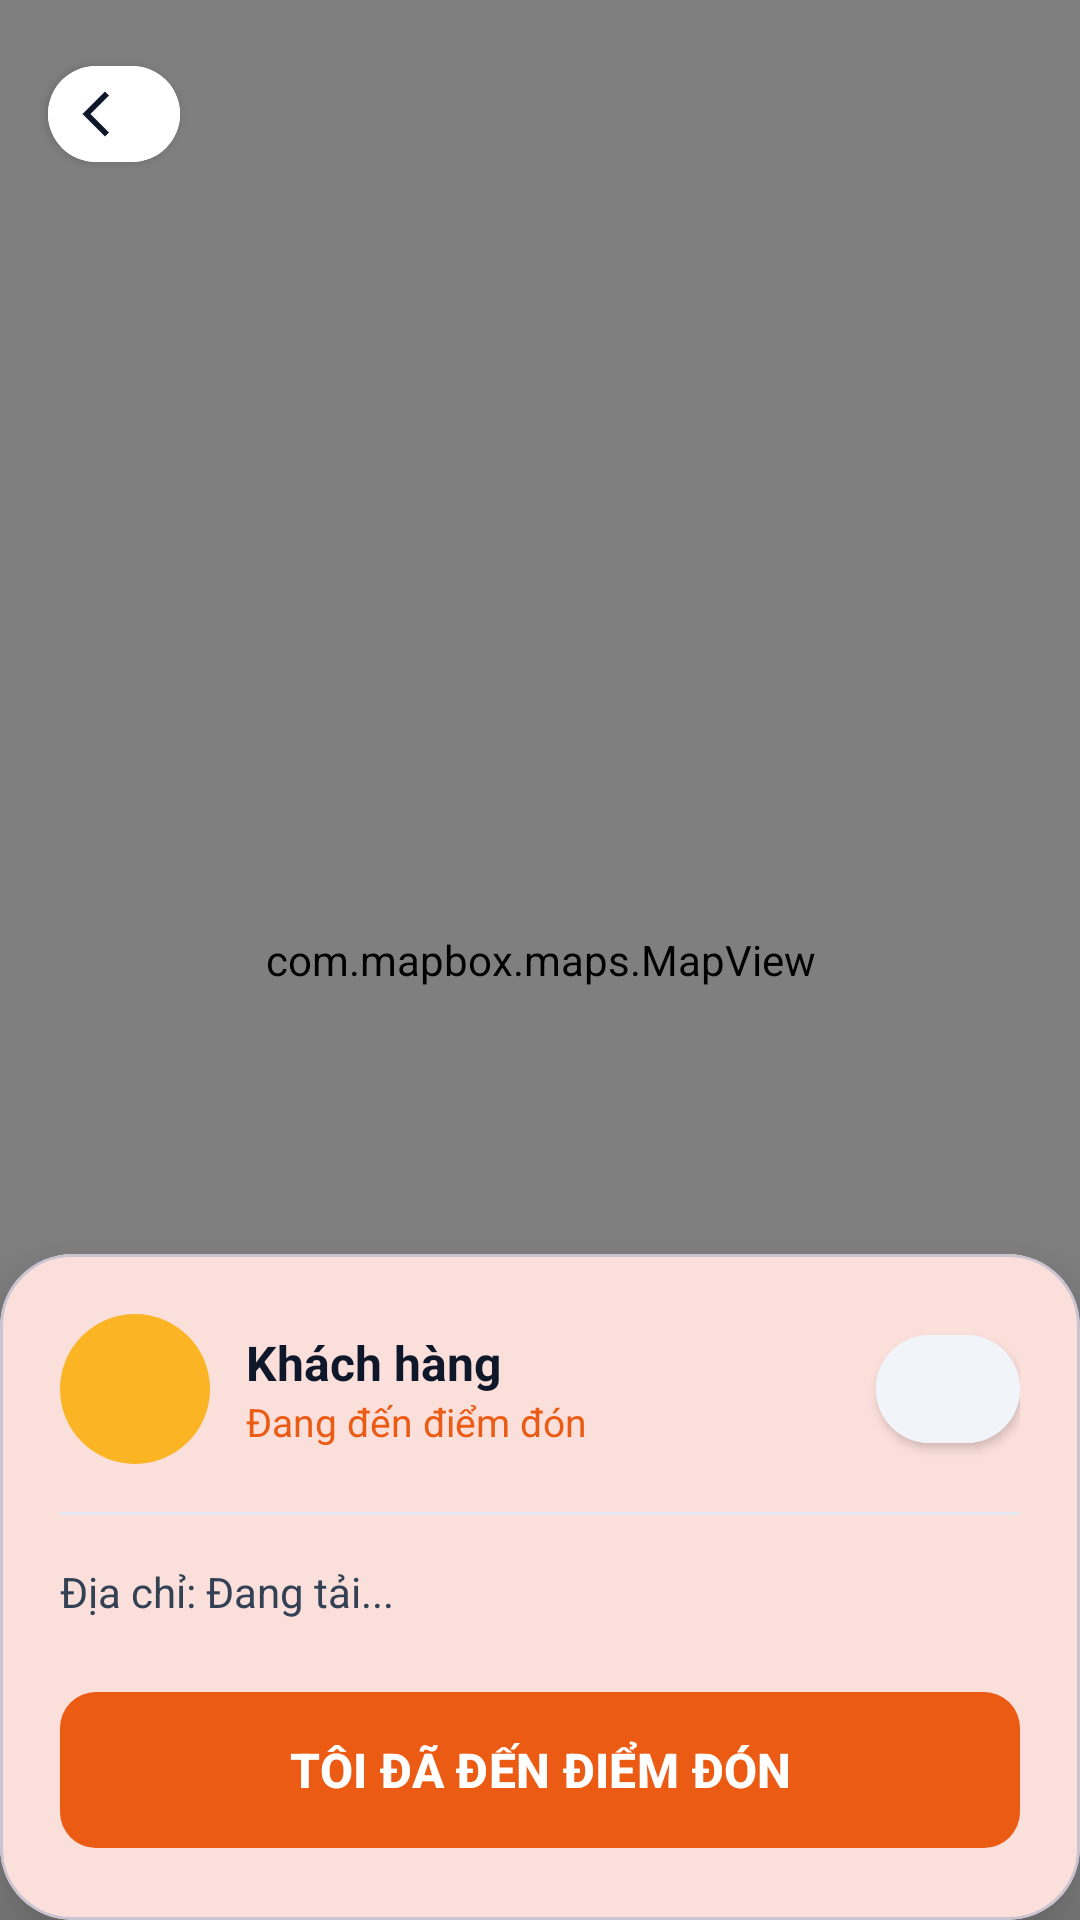

Icon bounding boxes for this 1080 x 1920 phone screenshot, format (x1=x1, y1=y1, x2=x2, y2=y2):
arrow back: (x1=48, y1=66, x2=180, y2=162)
